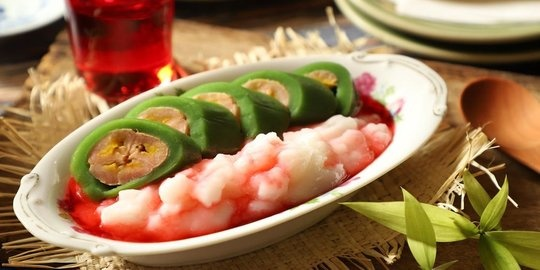es_pisang_ijo: (63, 62, 396, 244)
